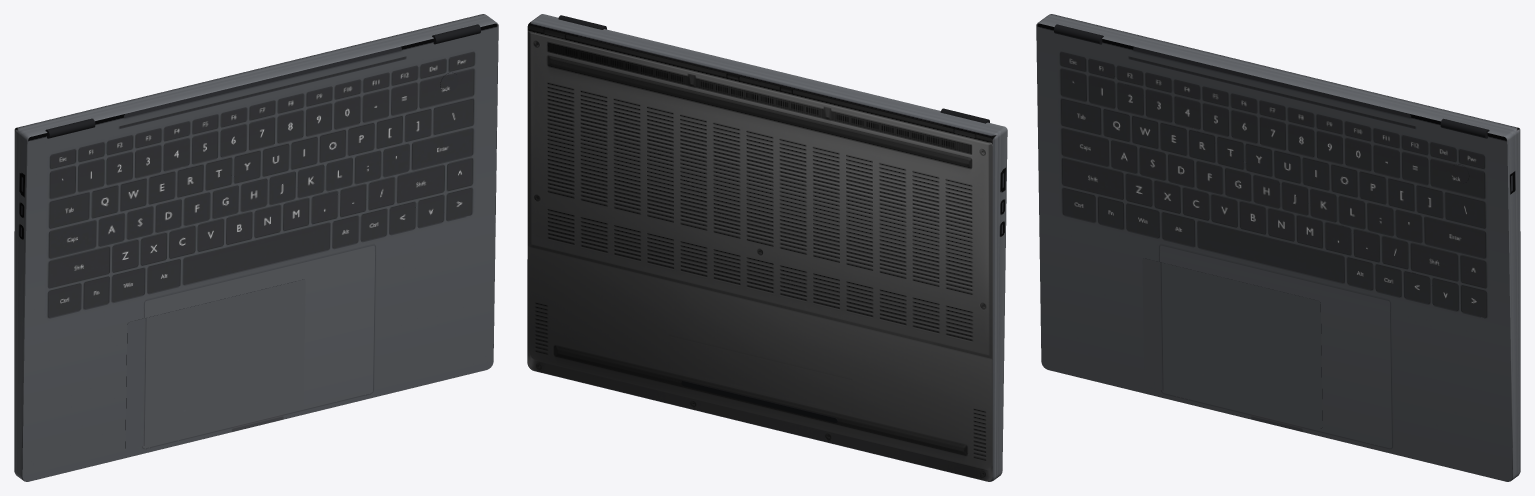
The model's file is body.obj.
The picture shows the model from 3 angles, left to right: view 1: azimuth 30°, elevation 25°; view 2: azimuth 150°, elevation 25°; view 3: azimuth 330°, elevation 25°; orthographic projection.
Parts seen in each view (by area): view 1: deck, base.002, base.003, hinge; view 2: base.004, base.002, base.003, base.005, hinge; view 3: deck, base.002, base.001, hinge.
Part boxes in pixels (x1,y1,x2,y2): deck: (22,23,498,481); base.002: (15,14,497,138); base.003: (14,129,28,480); hinge: (45,24,480,138); base.004: (527,25,992,481); base.002: (528,14,1006,138); base.003: (991,128,1007,480); base.005: (681,380,837,422); hinge: (558,15,989,123); deck: (1036,23,1512,481); base.002: (1037,14,1519,138); base.001: (1506,129,1520,480); hinge: (1054,24,1489,138).
Bounding box in the file's own units: 399 × 285 × 24.75.
